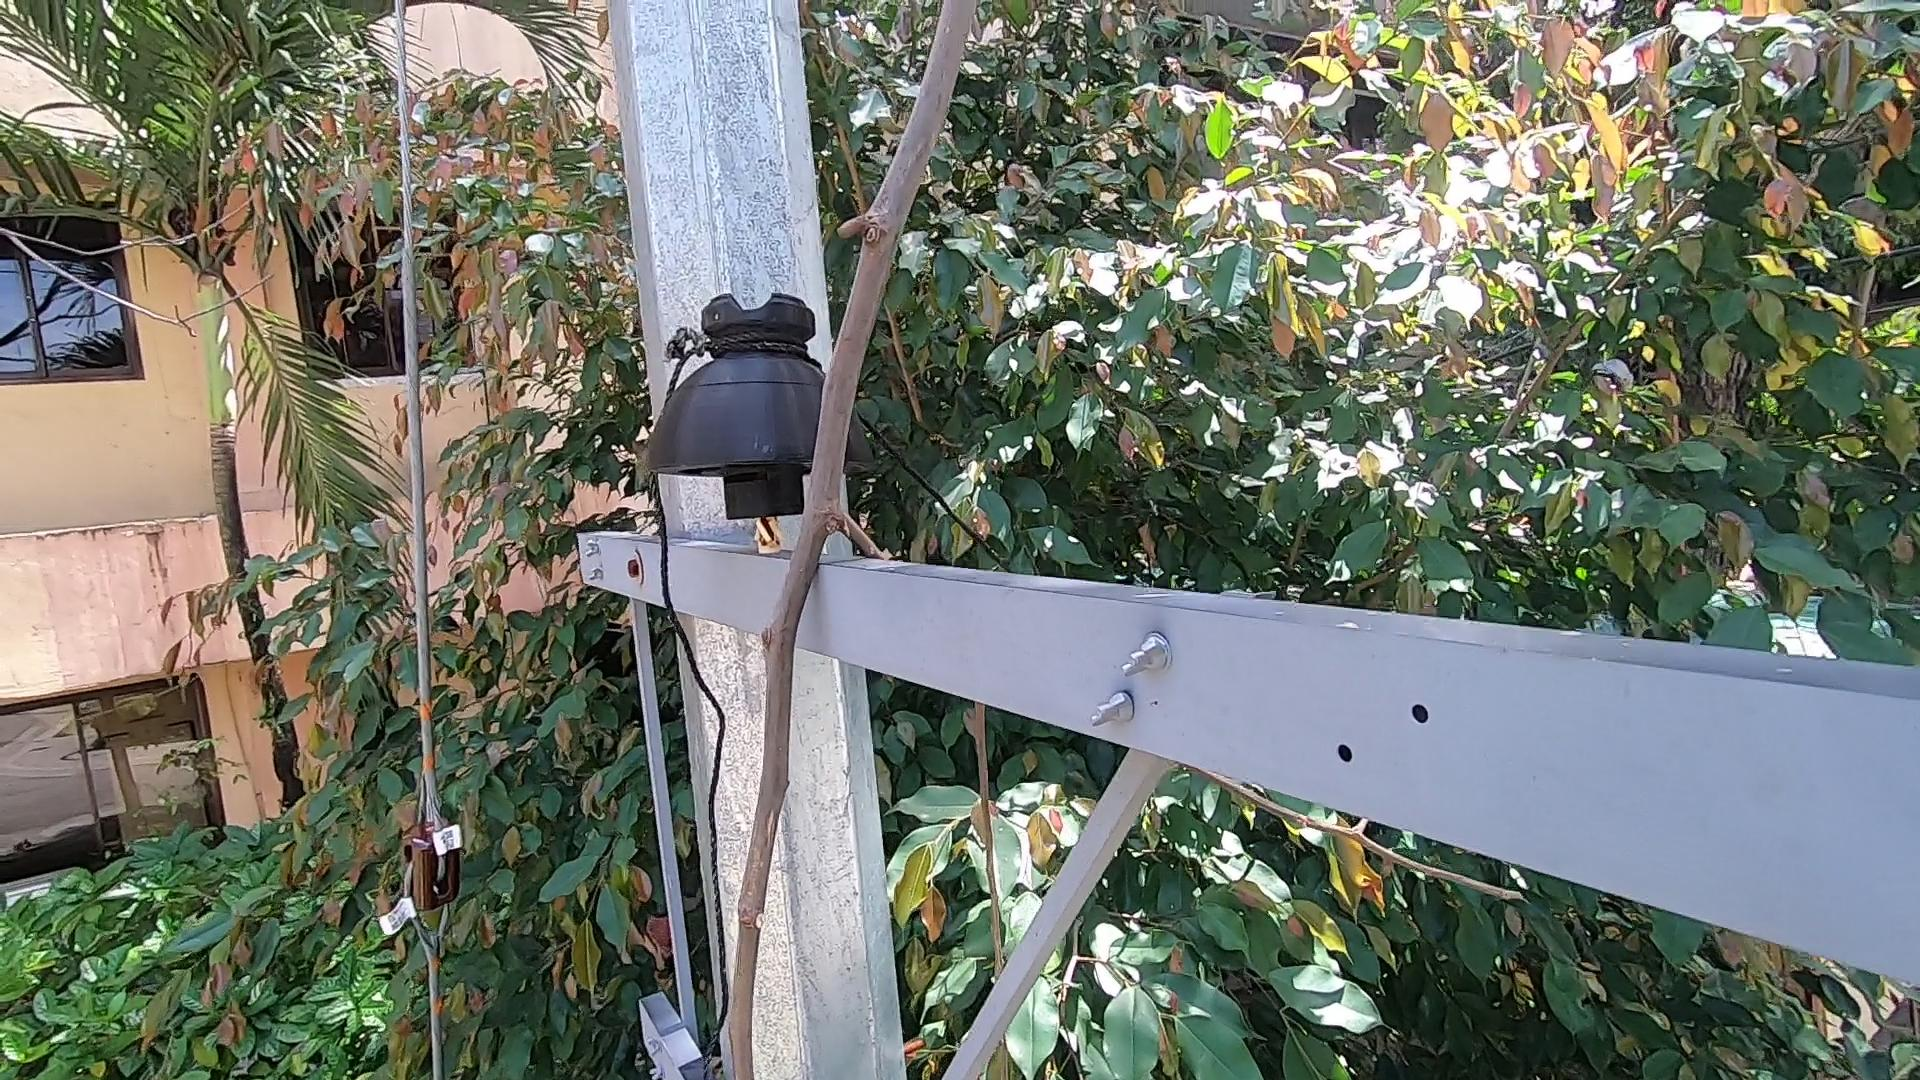tree branch: (626, 3, 1002, 1080)
